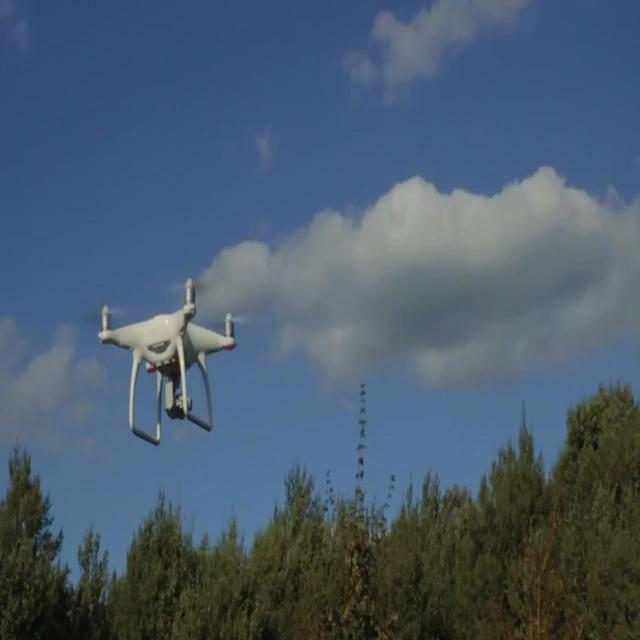drone: (98, 273, 238, 448)
